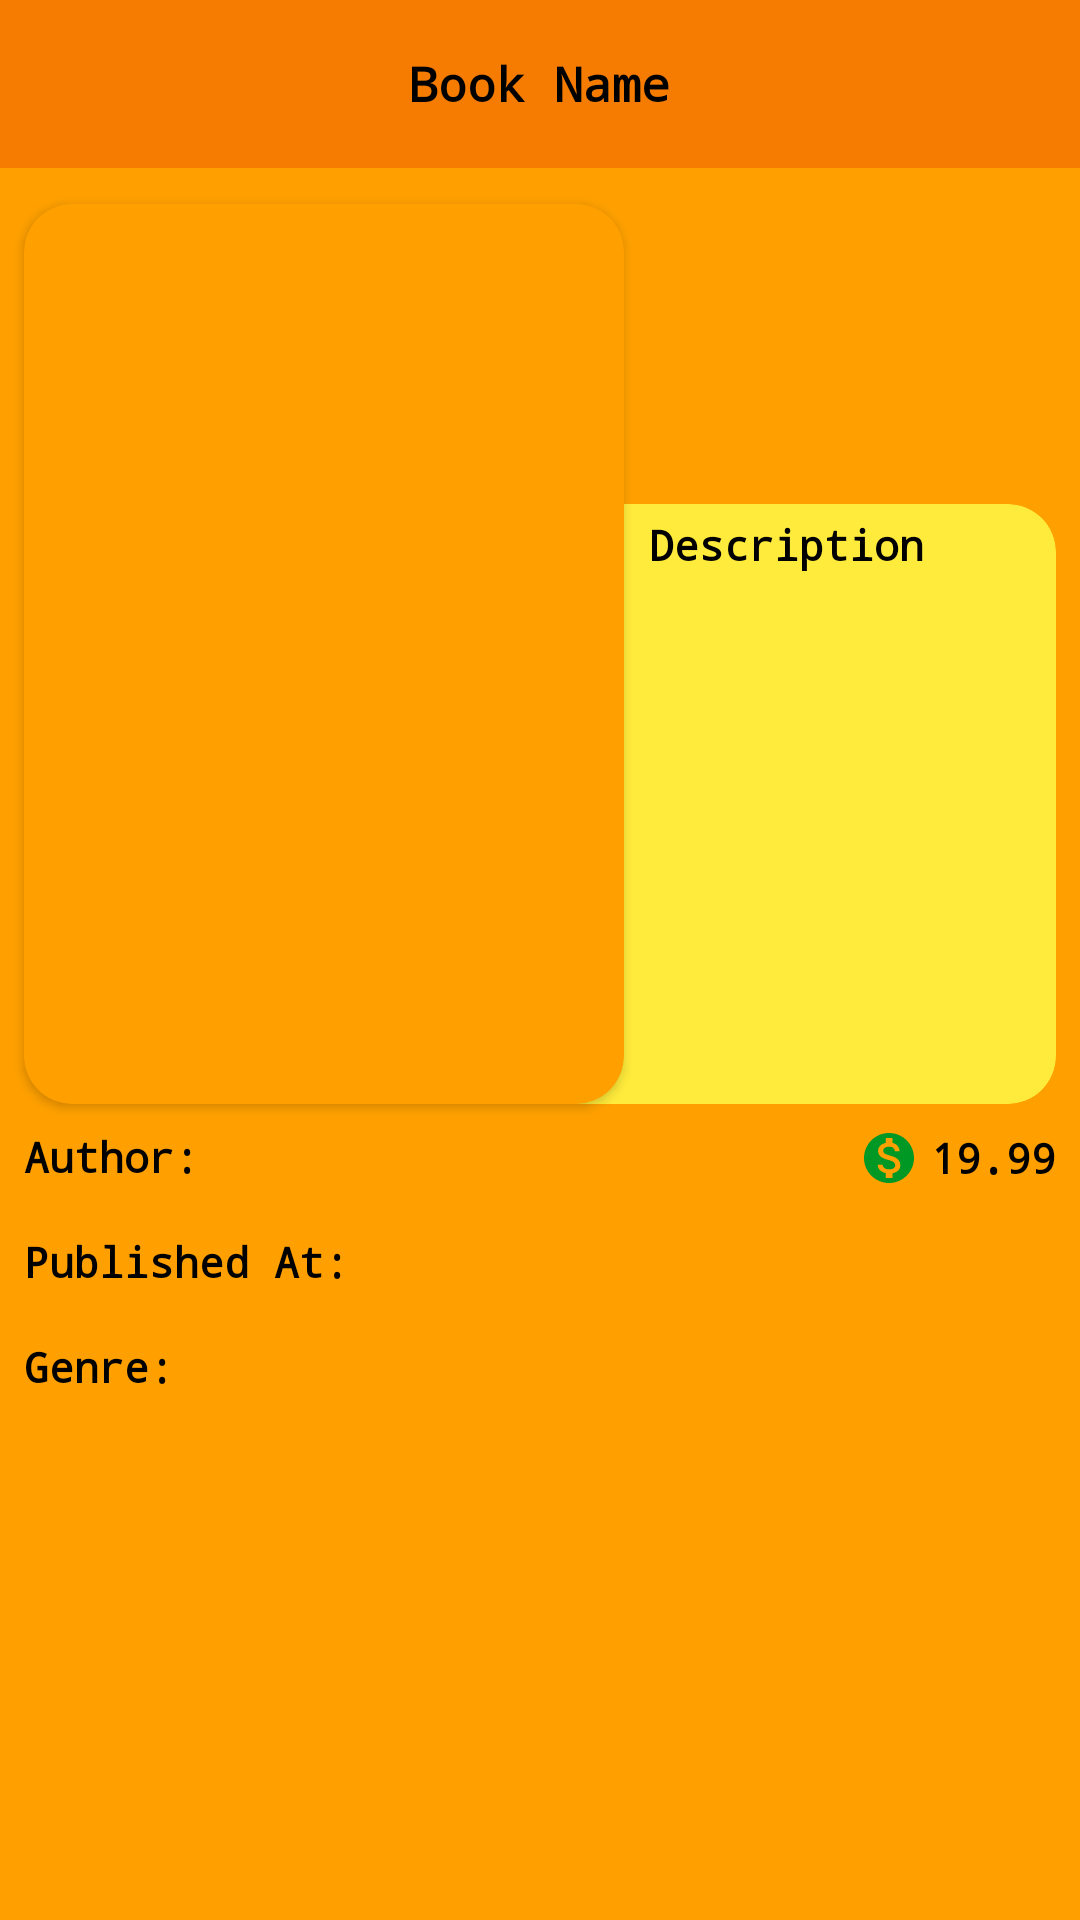

Point at icon controls on the screen. Image size 1080px×1920px, points as (x,y).
monetization on: (889,1158)
